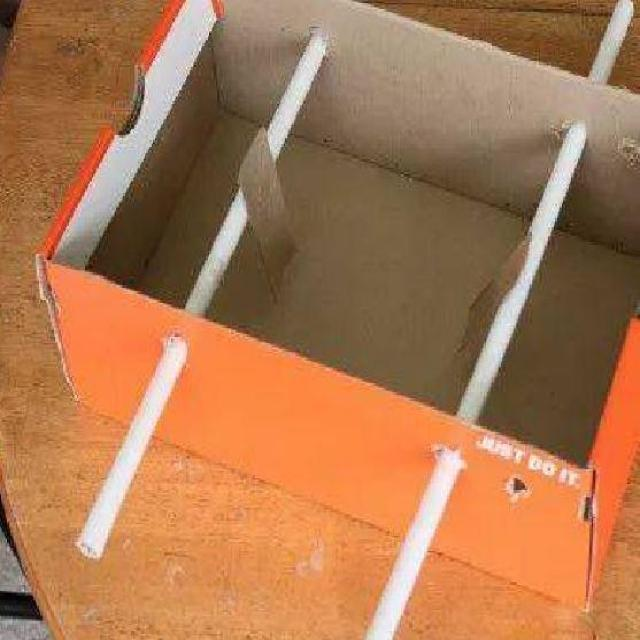cardboard: (44, 0, 640, 607)
